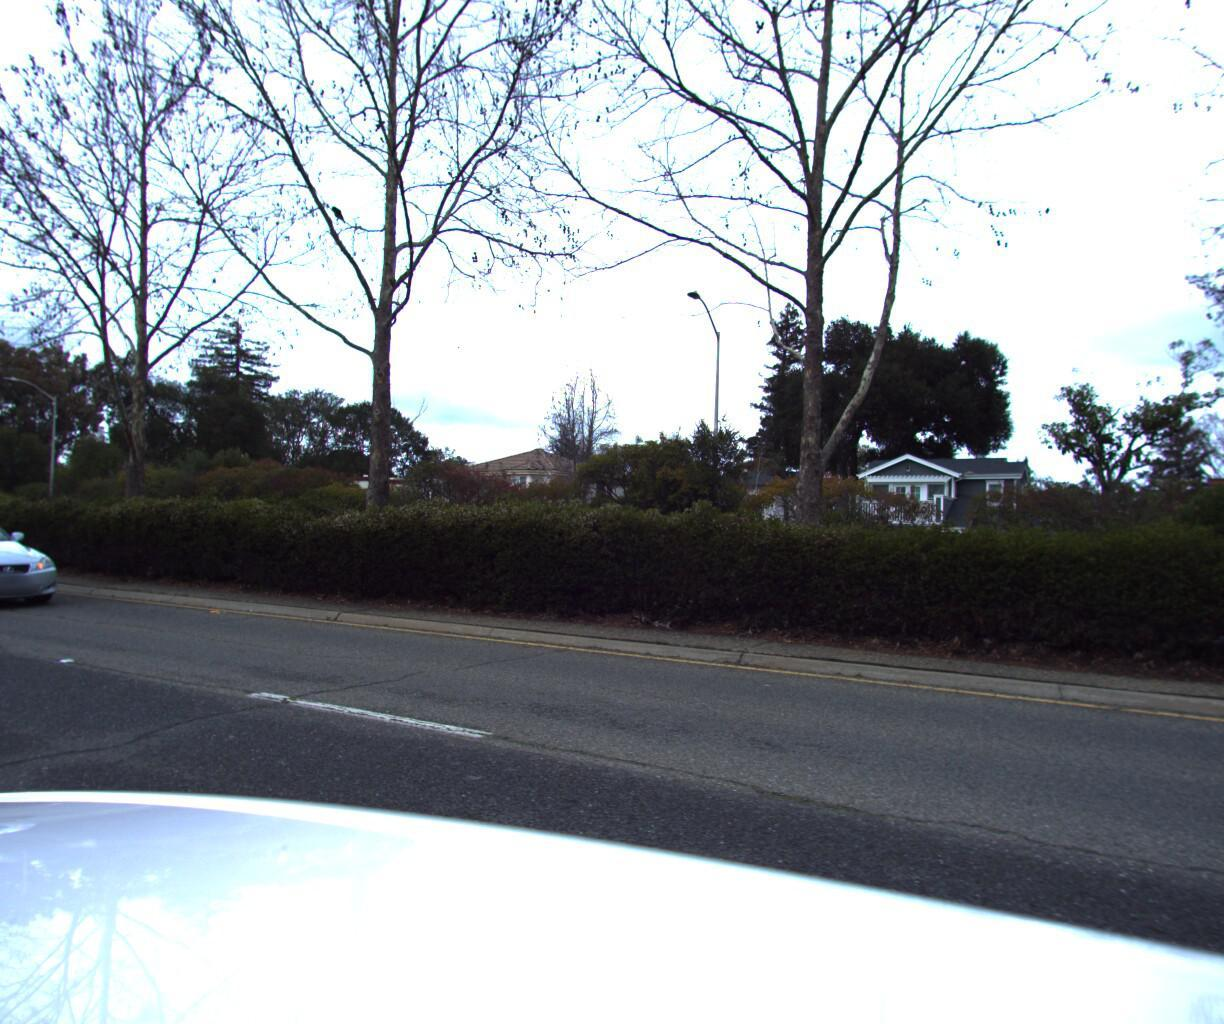car: (0, 500, 73, 617)
